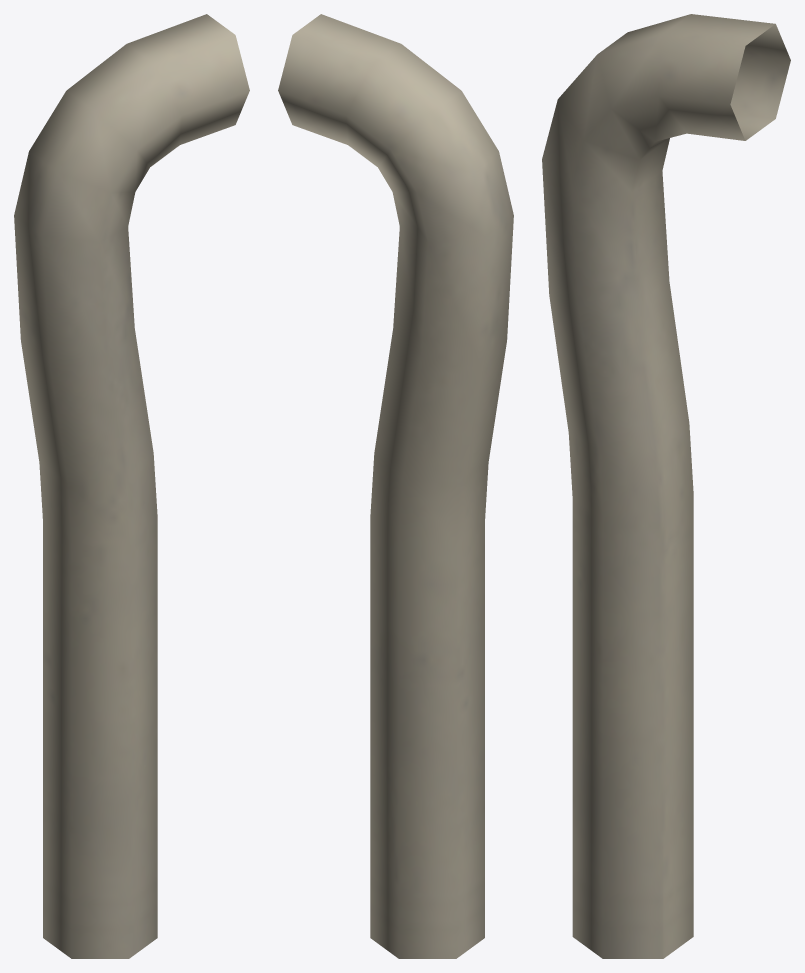
File: MB_Tube_B_Angle_04.fbx
The picture shows the model from 3 angles, left to right: view 1: azimuth 30°, elevation 25°; view 2: azimuth 150°, elevation 25°; view 3: azimuth 330°, elevation 25°; orthographic projection. The views are drawn at different scales.
Parts seen in each view (by area): view 1: MB_Tube_B_Angle_04; view 2: MB_Tube_B_Angle_04; view 3: MB_Tube_B_Angle_04.
Boxes of the visible parts, x1,y1,x2,y2 form: MB_Tube_B_Angle_04: (14, 14, 249, 958); MB_Tube_B_Angle_04: (278, 14, 513, 958); MB_Tube_B_Angle_04: (542, 14, 790, 958).
Bounding box in the file's own units: 12.03 × 52.68 × 6.2.
